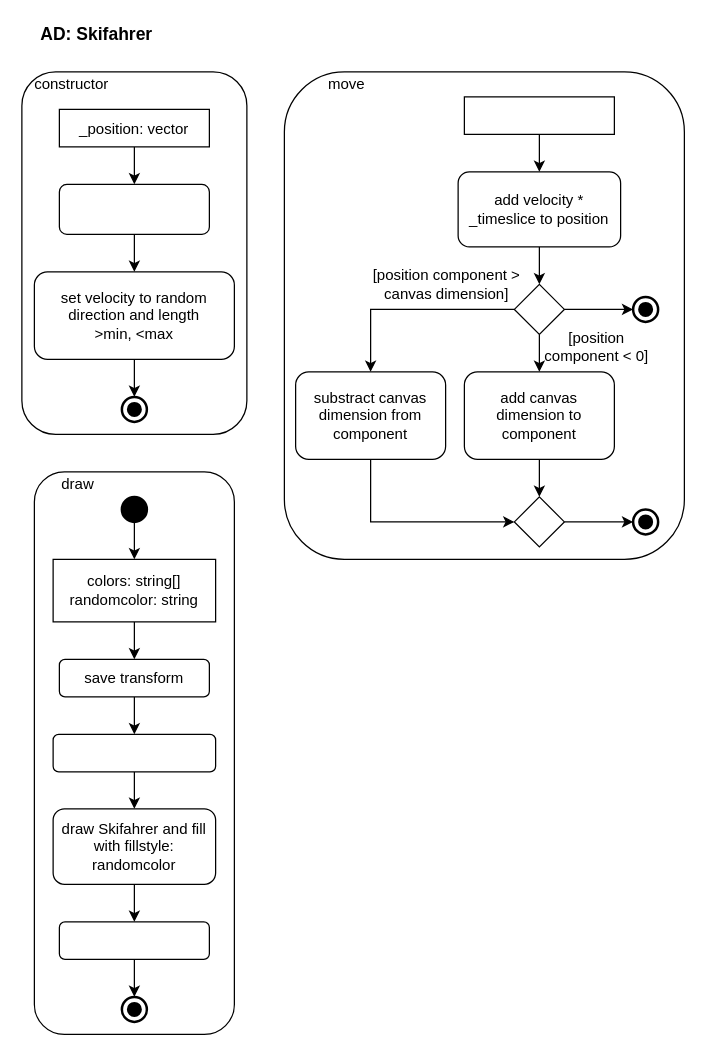
Some shapes in this 706 by 1056 pixel diagram are drawn without their labels. Here are the shapes that lost their labels. From the top down, the centre of each, then its label:
pixel 538 115: timeslice: number
pixel 133 208: position to _x,_y
pixel 134 752: translate to position
pixel 133 940: restore transform
